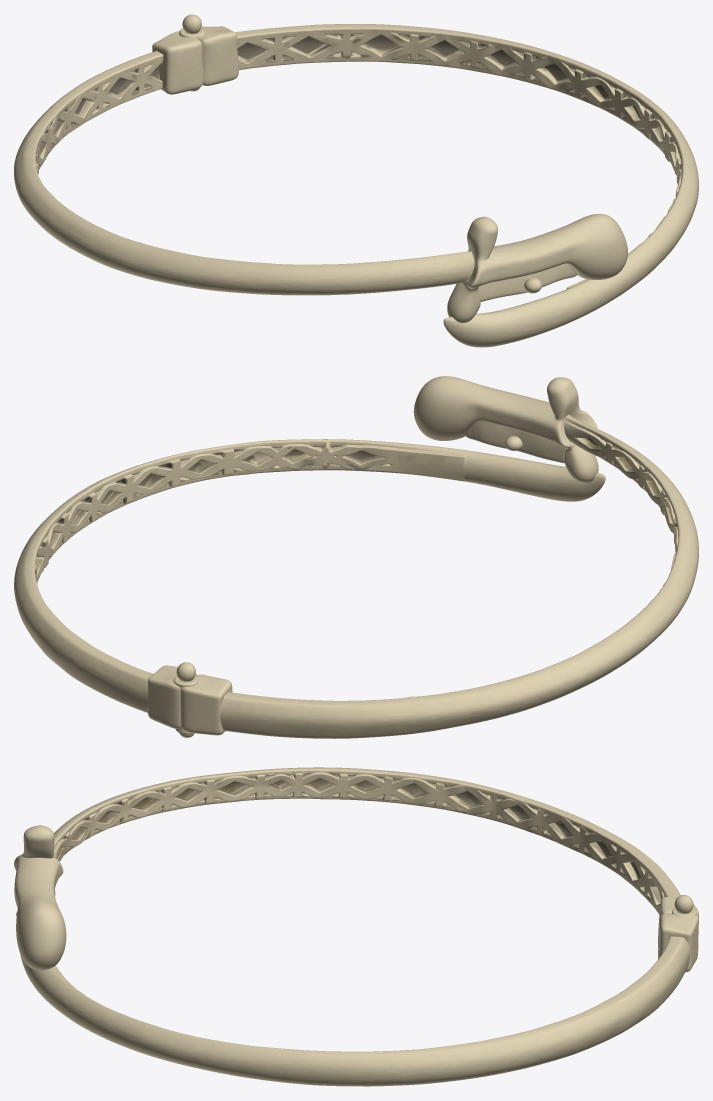
Rendered from 06-اسورة-امان.glb.
The picture shows the model from 3 angles, top to bottom: view 1: azimuth 30°, elevation 25°; view 2: azimuth 150°, elevation 25°; view 3: azimuth 270°, elevation 25°; orthographic projection. The views are drawn at different scales.
Size of the model in its own units: 1.83 by 0.3734 by 1.9.
1 material, 1 textured.
